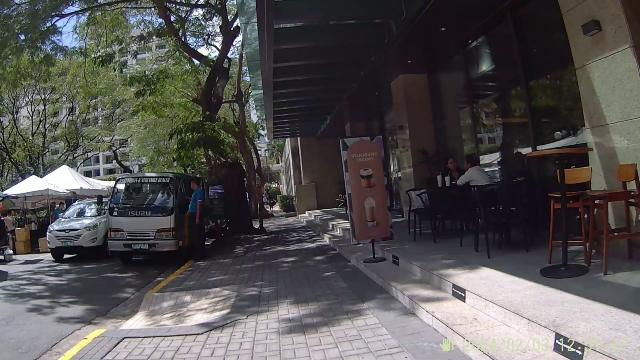bench: (544, 160, 640, 264)
car: (89, 166, 207, 256)
tree: (197, 2, 267, 248)
